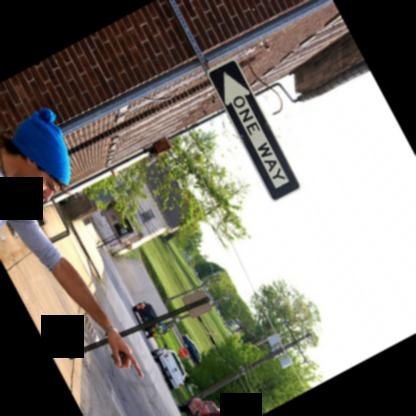handbag: (0, 184, 19, 211)
